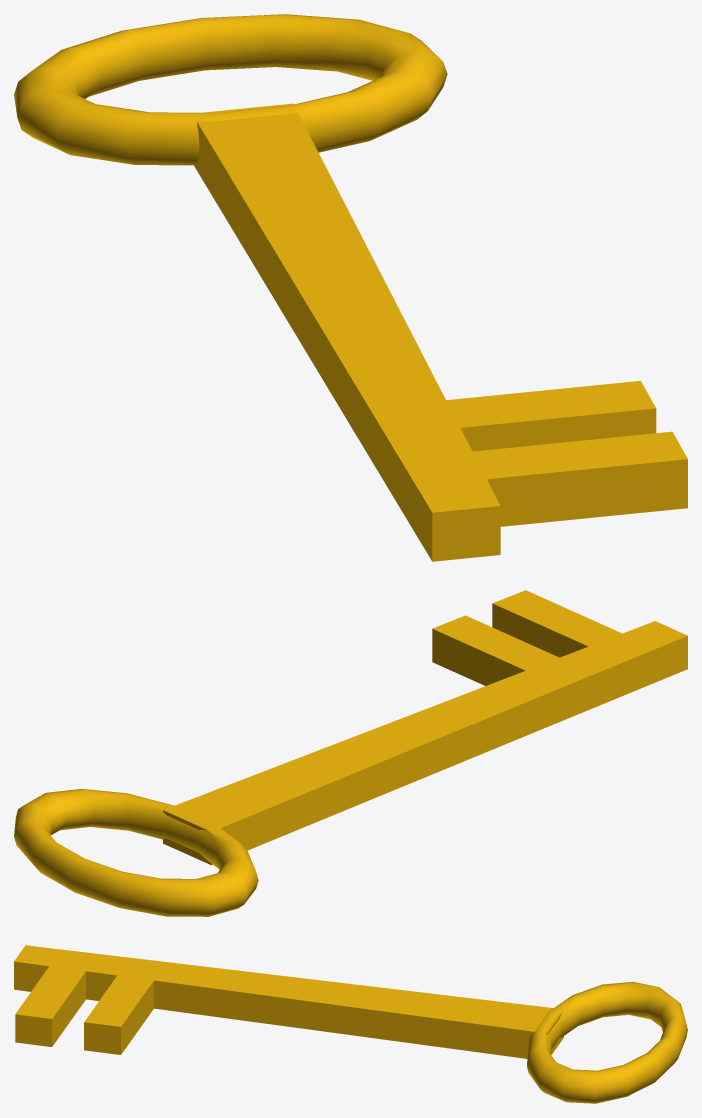
The model's file is key.fbx.
3 views of the same model, one above another, from view 1: azimuth 30°, elevation 25°; view 2: azimuth 150°, elevation 25°; view 3: azimuth 270°, elevation 25° (orthographic). The views are drawn at different scales.
Visible parts, largest first — view 1: Torus037; view 2: Torus037; view 3: Torus037.
Boxes of the visible parts, x1,y1,x2,y2 form: Torus037: [14, 14, 687, 561]; Torus037: [14, 590, 687, 916]; Torus037: [14, 945, 687, 1103].
Size of the model in its own units: 5.21 by 10.84 by 0.5334.
